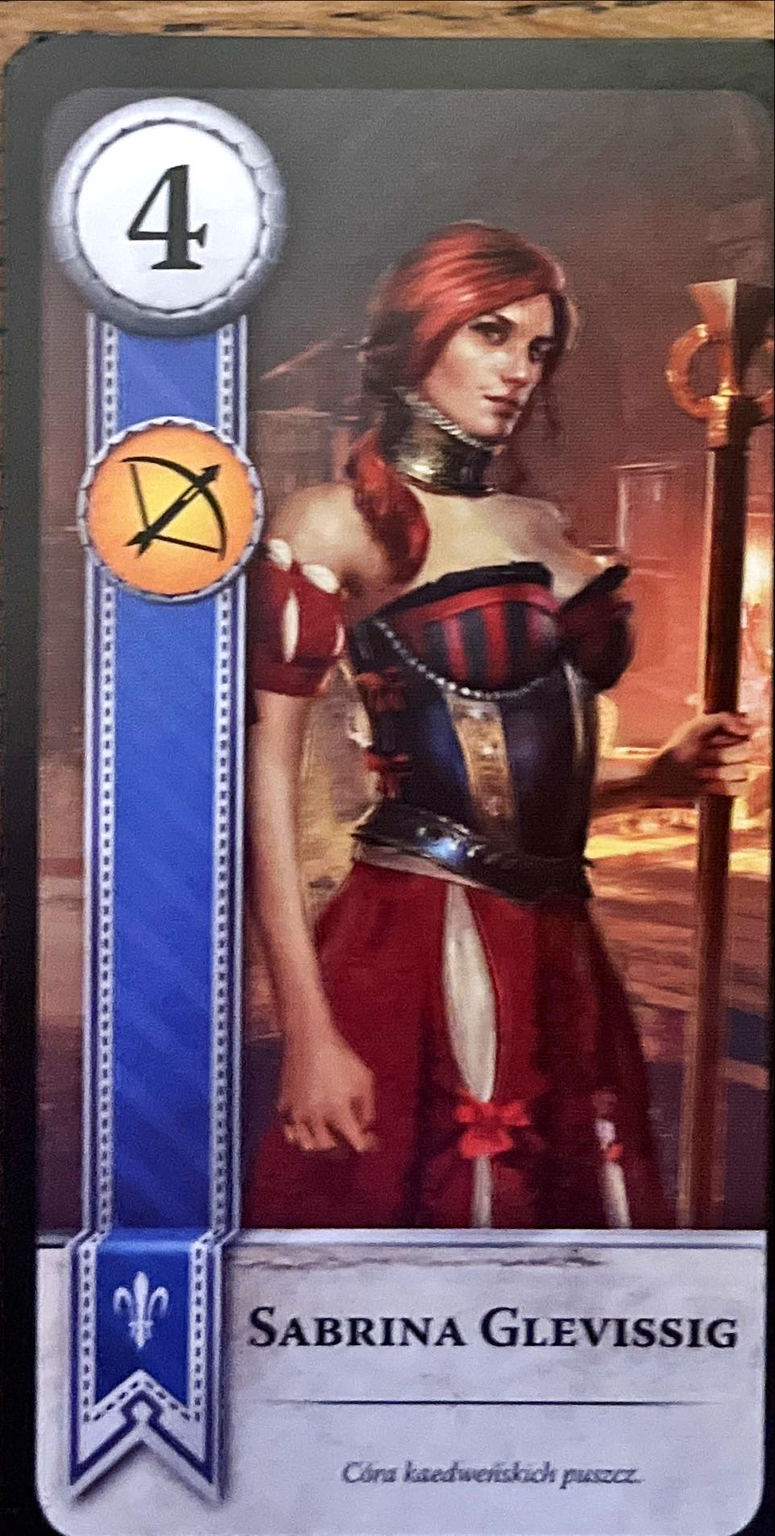4: (46, 99, 291, 335)
lucznik: (77, 413, 269, 604)
